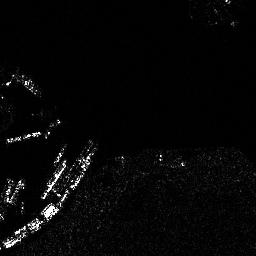ship: (40, 158, 67, 200), (6, 131, 42, 144)
